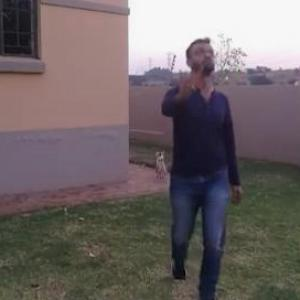takeoff-hand: (173, 72, 196, 102)
